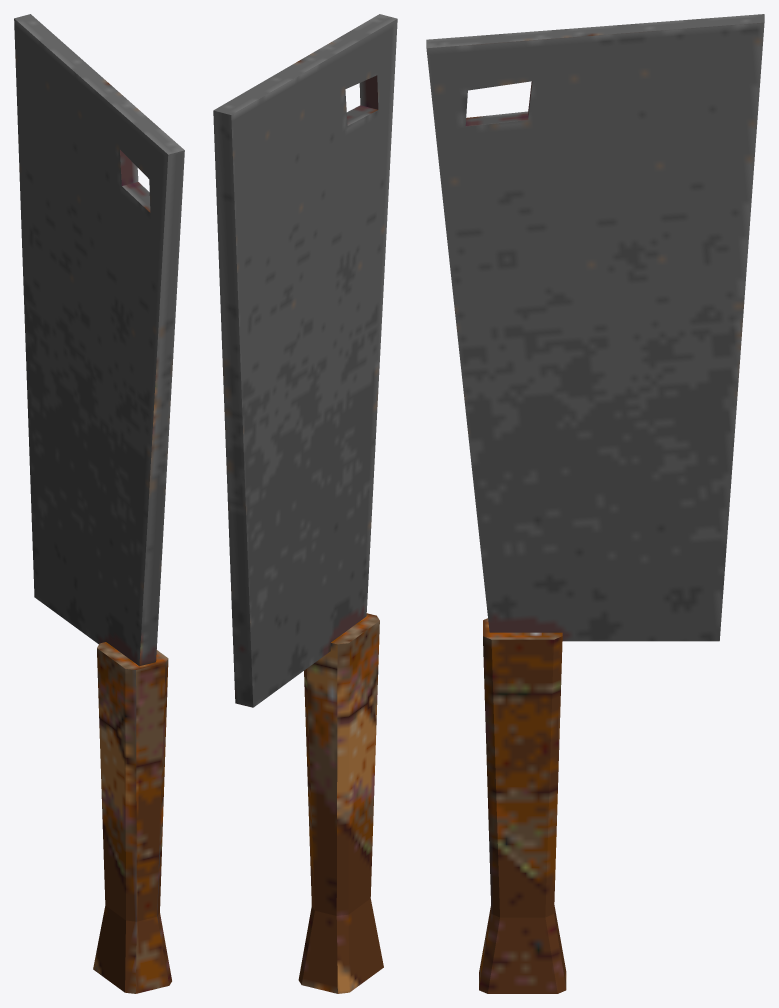
The model's file is Cleaver.fbx.
3 renders of one model, left to right at view 1: azimuth 30°, elevation 25°; view 2: azimuth 150°, elevation 25°; view 3: azimuth 270°, elevation 25°, orthographic. The views are drawn at different scales.
Visible parts, largest first — view 1: Meatcleaver; view 2: Meatcleaver; view 3: Meatcleaver.
Boxes of the visible parts, <box> form: Meatcleaver: <box>14,14,184,993</box>; Meatcleaver: <box>213,14,397,993</box>; Meatcleaver: <box>426,14,764,993</box>.
Bounding box in the file's own units: 54.39 × 966 × 307.
